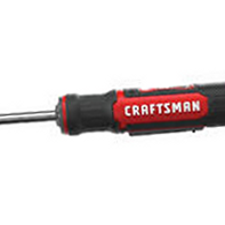Screwdriver: (1, 78, 225, 135)
